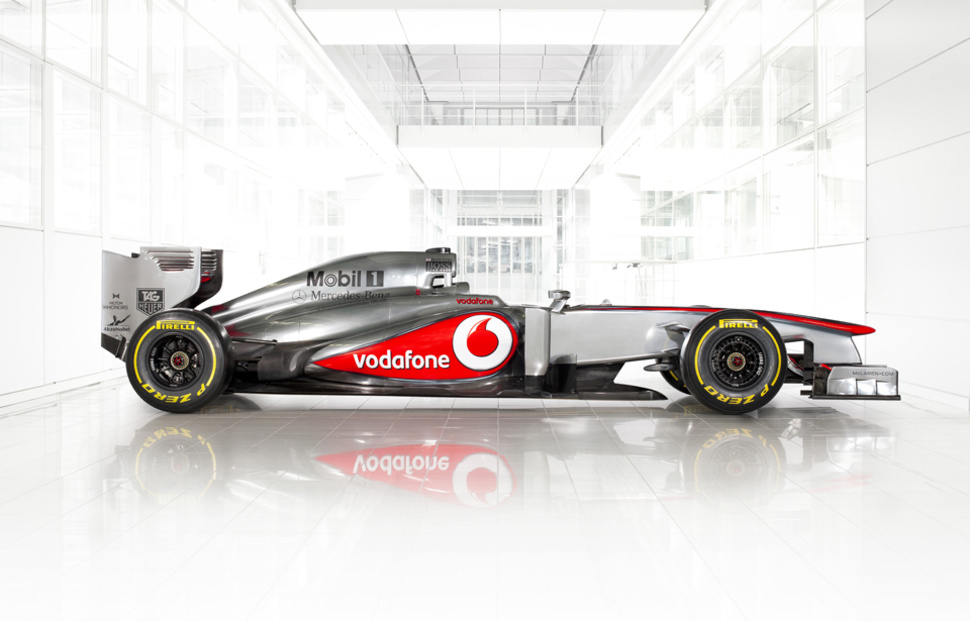f1_car: (85, 226, 912, 432)
